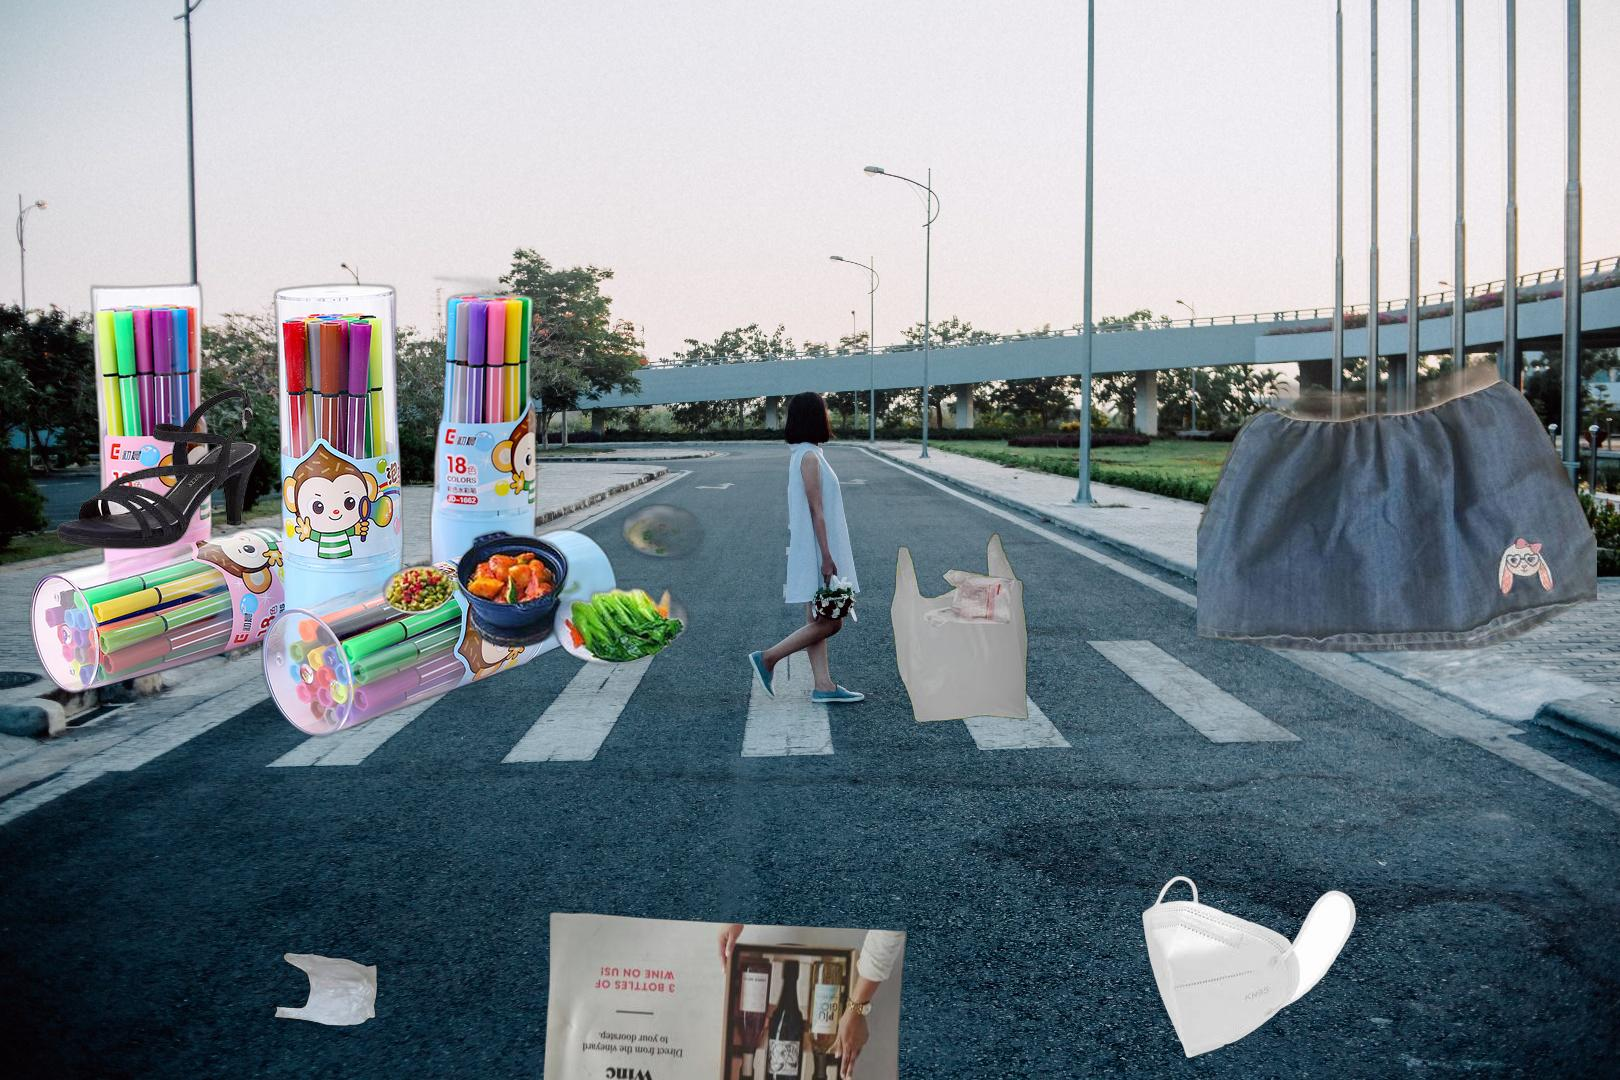biological: (380, 412, 721, 683)
clothes: (1197, 278, 1597, 656)
paper: (538, 909, 912, 1080)
penholder: (24, 268, 622, 742)
plastic-bag: (888, 523, 1031, 724), (271, 950, 380, 1029)
shoes: (54, 386, 263, 552)
trash: (1139, 873, 1358, 1061)
